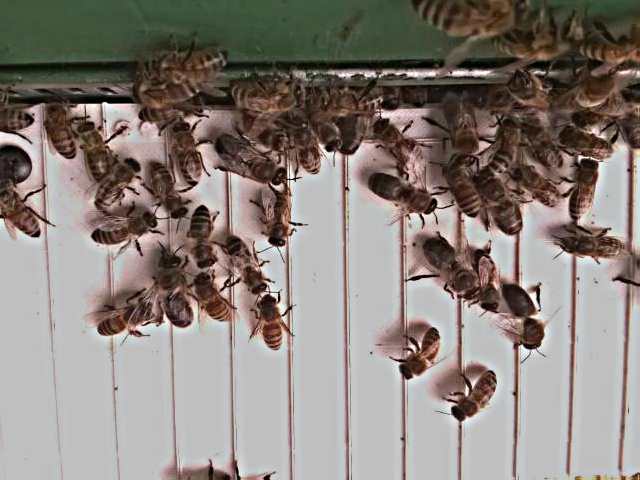Drone: (215, 133, 290, 189), (421, 237, 482, 305), (475, 170, 526, 240), (439, 85, 481, 168), (500, 283, 546, 356), (366, 173, 441, 217), (158, 254, 195, 333)
Worker: (451, 369, 503, 423), (225, 234, 267, 300), (372, 120, 428, 168), (510, 165, 566, 212), (90, 211, 160, 248), (0, 183, 42, 241), (149, 164, 190, 221), (172, 123, 206, 191), (98, 160, 142, 212), (402, 326, 443, 381), (569, 160, 602, 224), (194, 275, 232, 328), (474, 248, 503, 317), (98, 302, 155, 337), (80, 121, 112, 183), (188, 206, 218, 272), (44, 105, 78, 163), (559, 128, 615, 163), (558, 233, 625, 261), (291, 121, 322, 179), (266, 191, 294, 250), (258, 296, 285, 354)
